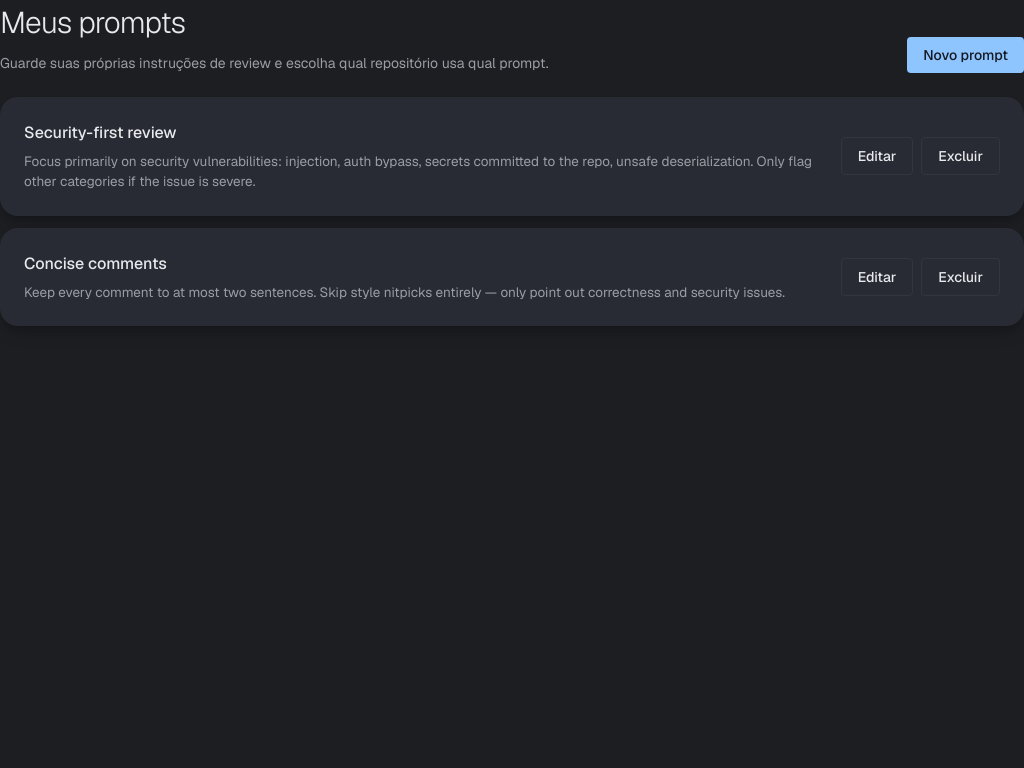
Test: PromptsPage › 'Editar' opens the modal pre-filled with that prompt's data, and saving updates what's shown in the list
The image size is (1024, 768).
expect the text "Security-first review" is shown: met, box [24,122,177,143]
Click the button "Editar" in the row of "Security-first review" at (877, 156), box [841,137,913,175]
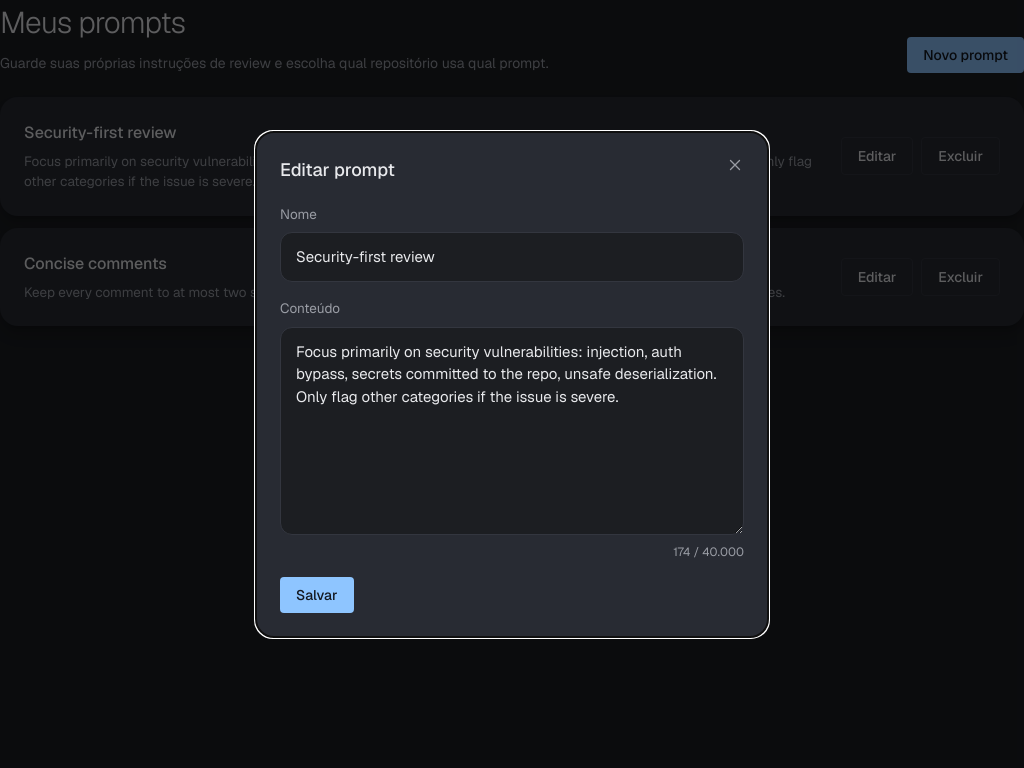
expect the heading "Editar prompt" is shown: met, box [280,156,395,184]
expect the field labelled "Nome" holds "Security-first review": met, box [280,232,744,282]
expect the text box labelled "Conteúdo" holds "Focus primarily on security vulnerabilities: injection, auth bypass, secrets committed to the repo, unsafe deserialization. Only flag other categories if the is": met
Replace the text in the text box labelled "Conteúdo" with "Updated review instructions." at (512, 430), box [280,326,744,534]
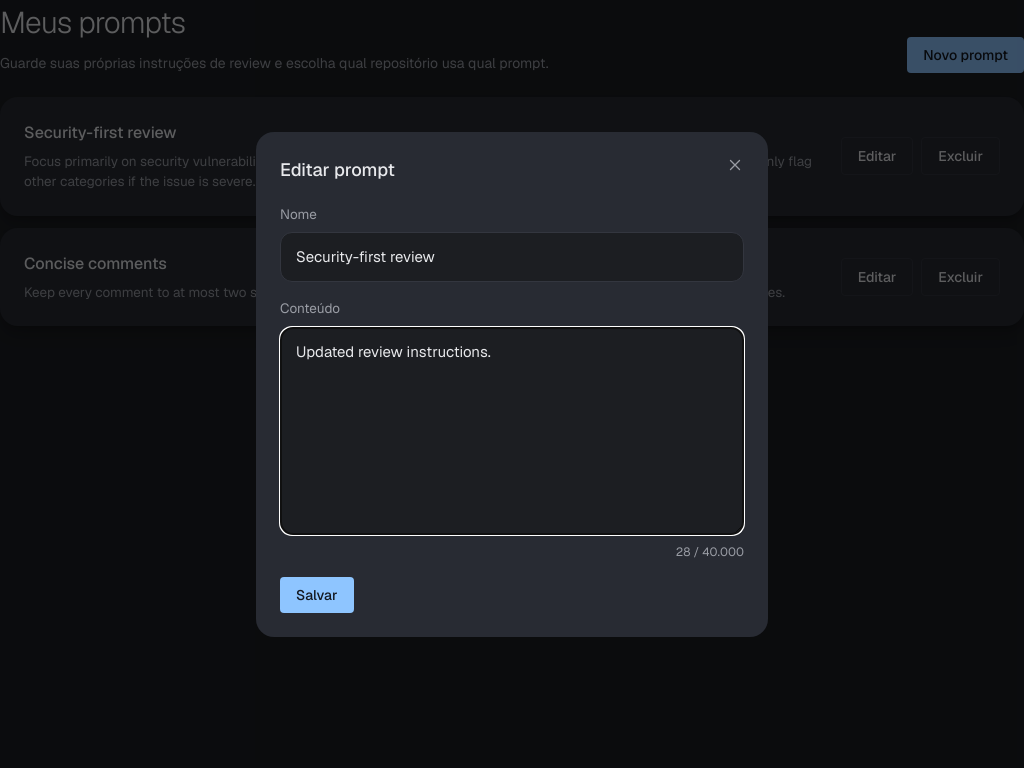
Click the button "Salvar" at (317, 594), box [280,576,354,612]
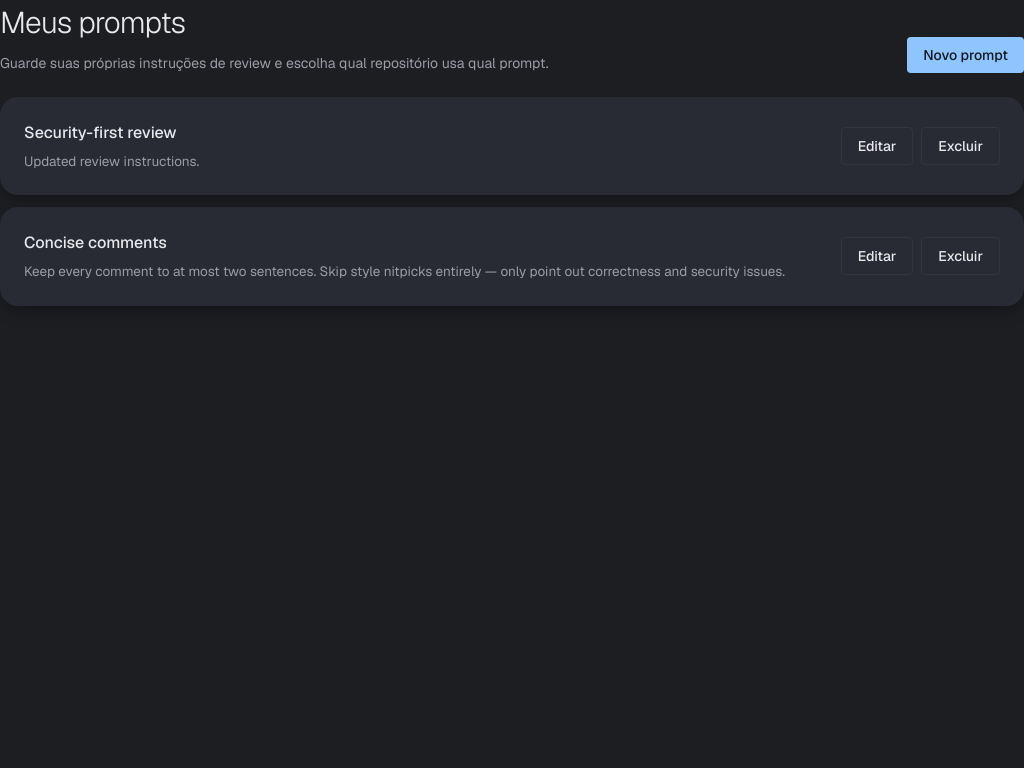
expect the dialog is gone: met
expect the text "Updated review instructions." is shown: met, box [24,151,199,171]
expect the text "Focus primarily on security vulnerabilities" is gone: met
